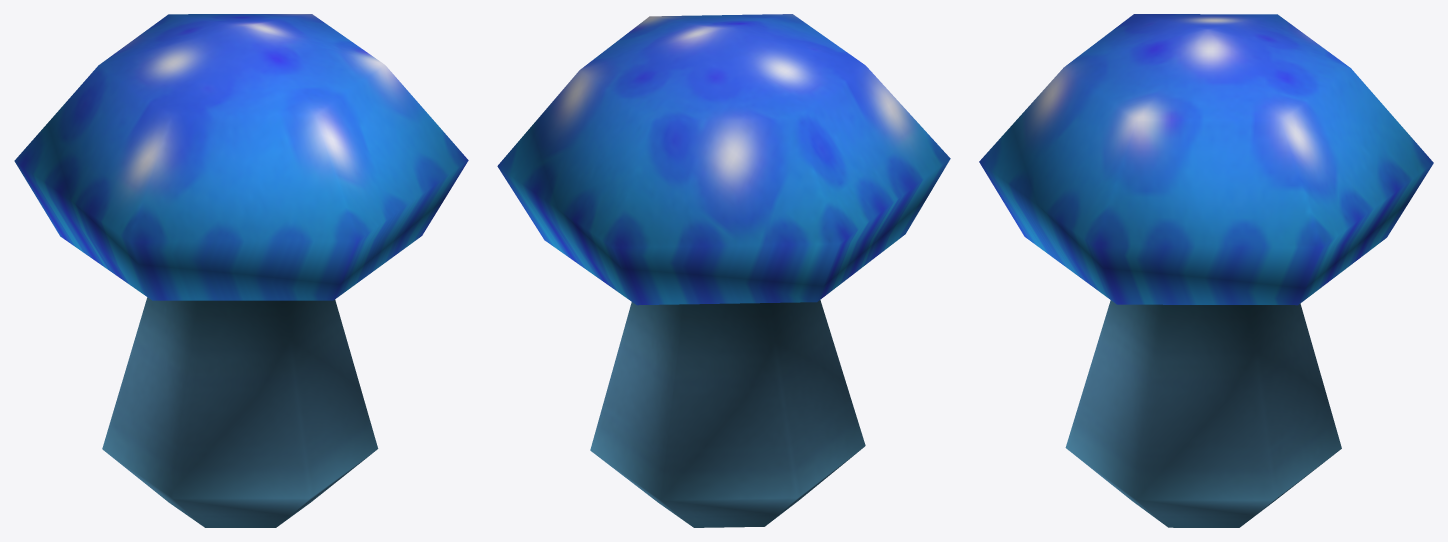
The model's file is Mushroom_07.FBX.
3 views of the same model, side by side, from view 1: azimuth 30°, elevation 25°; view 2: azimuth 150°, elevation 25°; view 3: azimuth 270°, elevation 25° (orthographic).
Visible parts, largest first — view 1: Mushroom_07; view 2: Mushroom_07; view 3: Mushroom_07.
Boxes of the visible parts, box(x1,y1,x2,y2) form: Mushroom_07: box(14, 14, 468, 527); Mushroom_07: box(497, 14, 950, 527); Mushroom_07: box(979, 14, 1433, 527).
Size of the model in its own units: 0.1956 by 0.258 by 0.2243.
